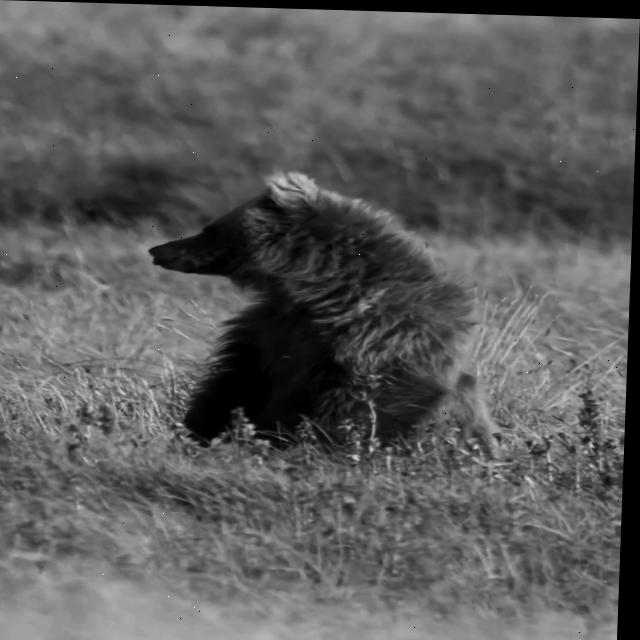Bear: (138, 167, 515, 469)
